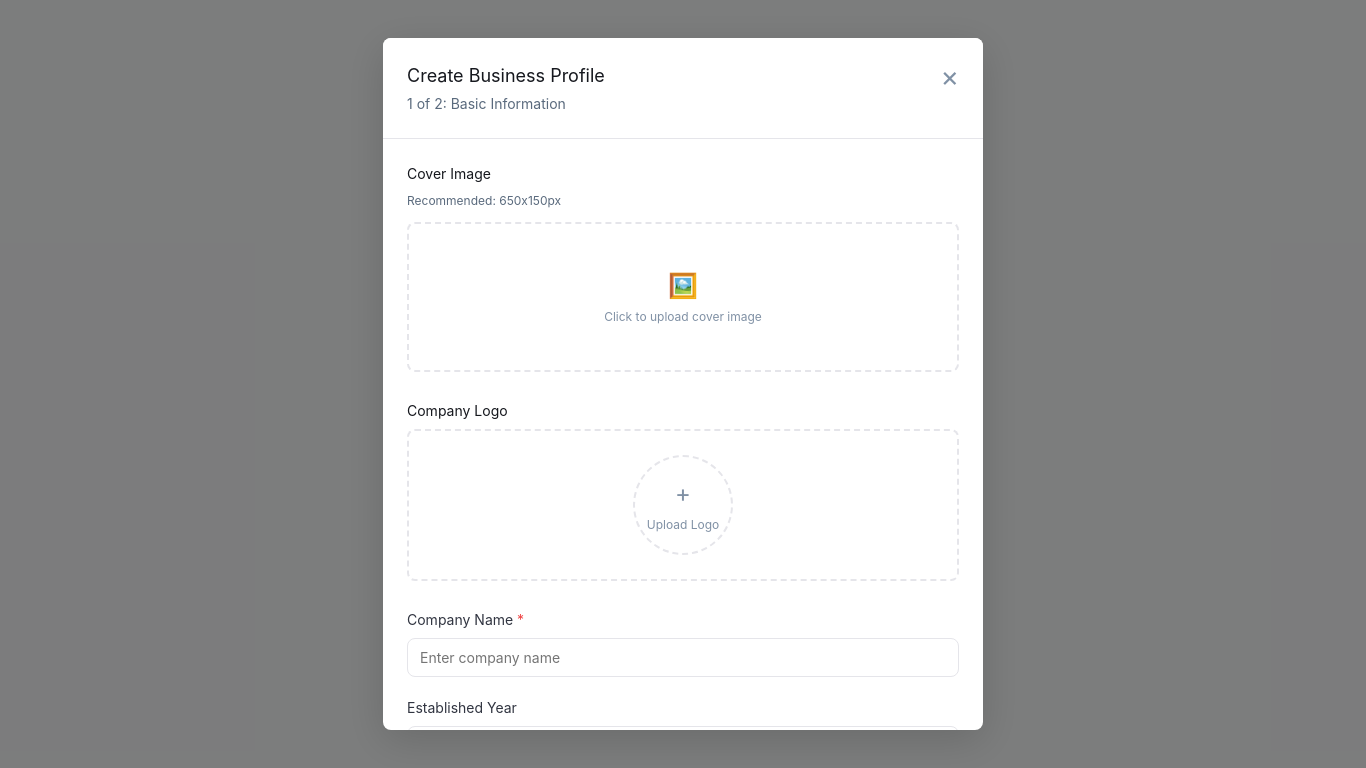
it: BusinessProfileModal › Step 2: Team Management › should remove team member when clicking remove button
Type "Test Company" into the field labelled "Company Name *" at (683, 658), box [407,638,959,677]
(page scrolled)
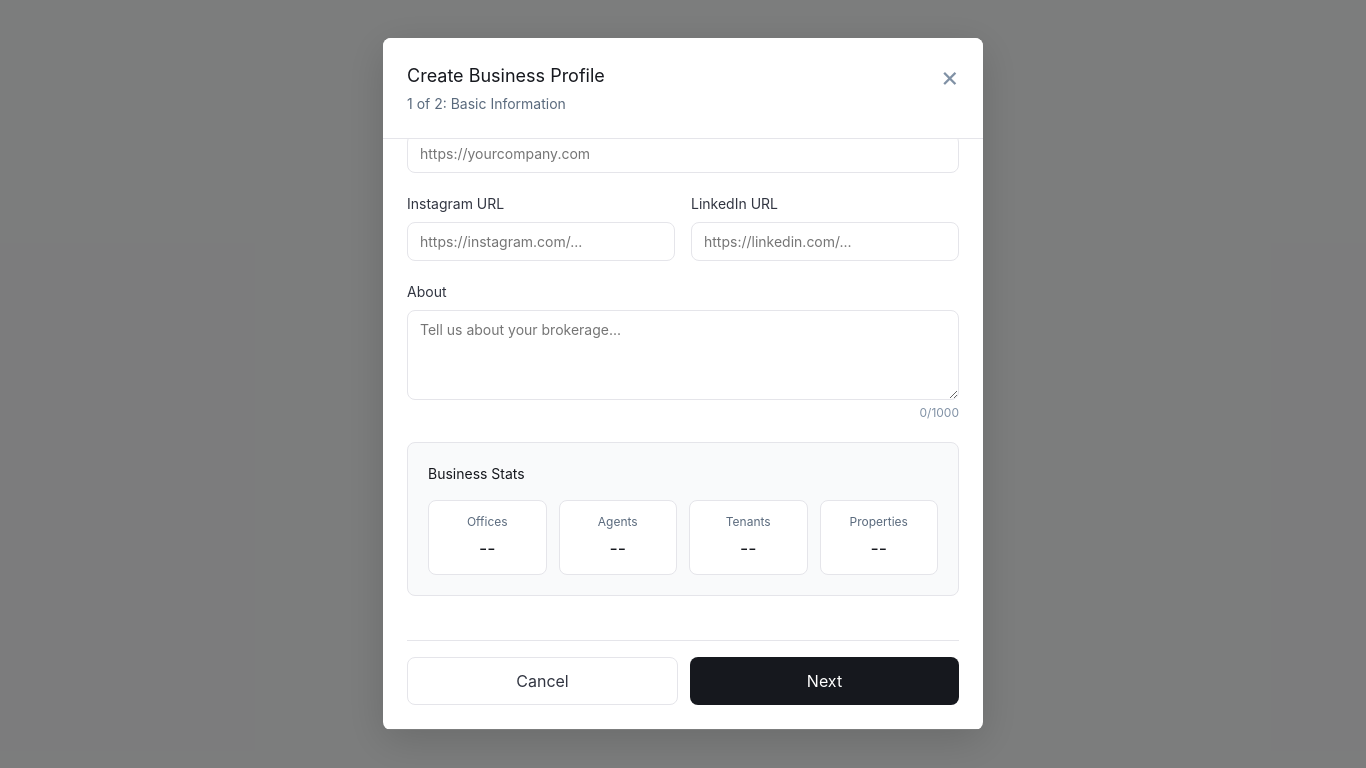
Click the button "Next" at (824, 681), box [690,657,959,705]
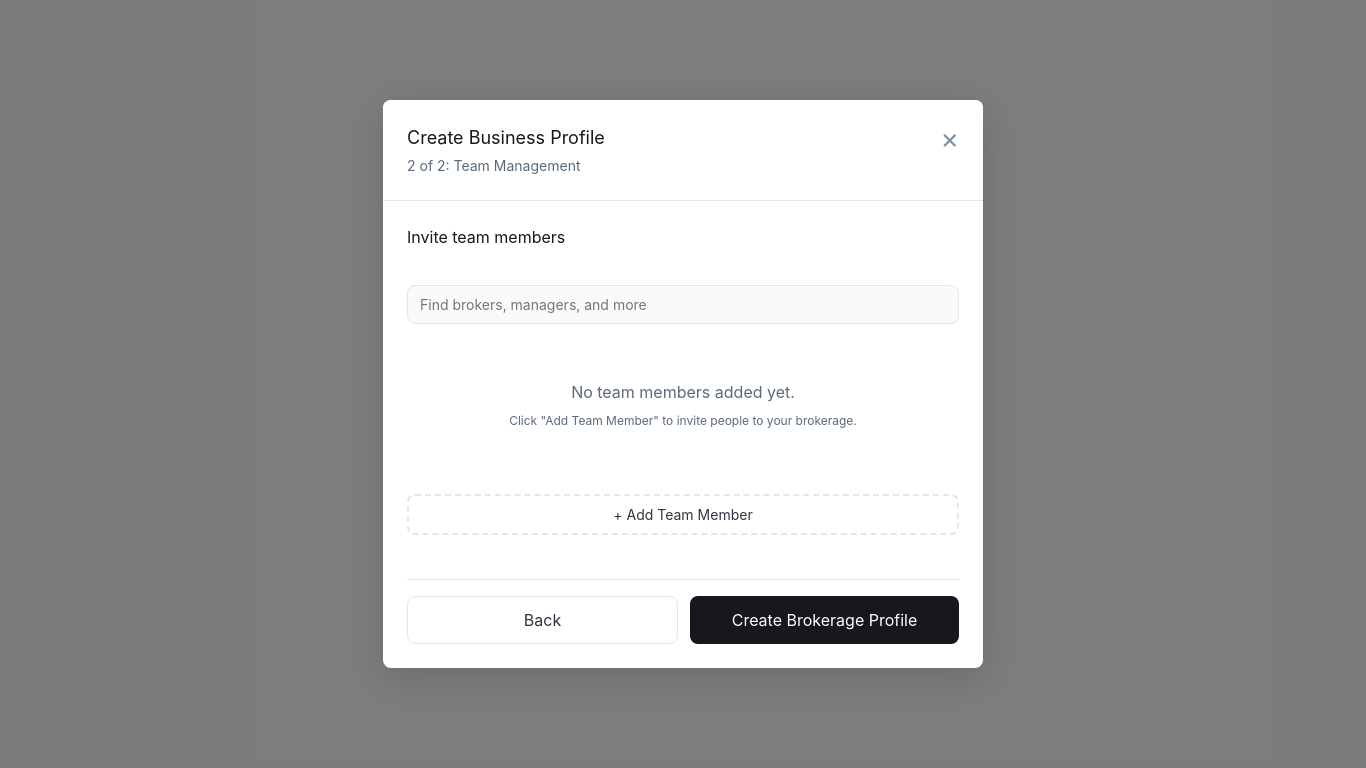
Now the text "2 of 2: Team Management" is shown, box [407,155,605,176]
Click the button "+ Add Team Member" at (683, 514), box [407,494,959,535]
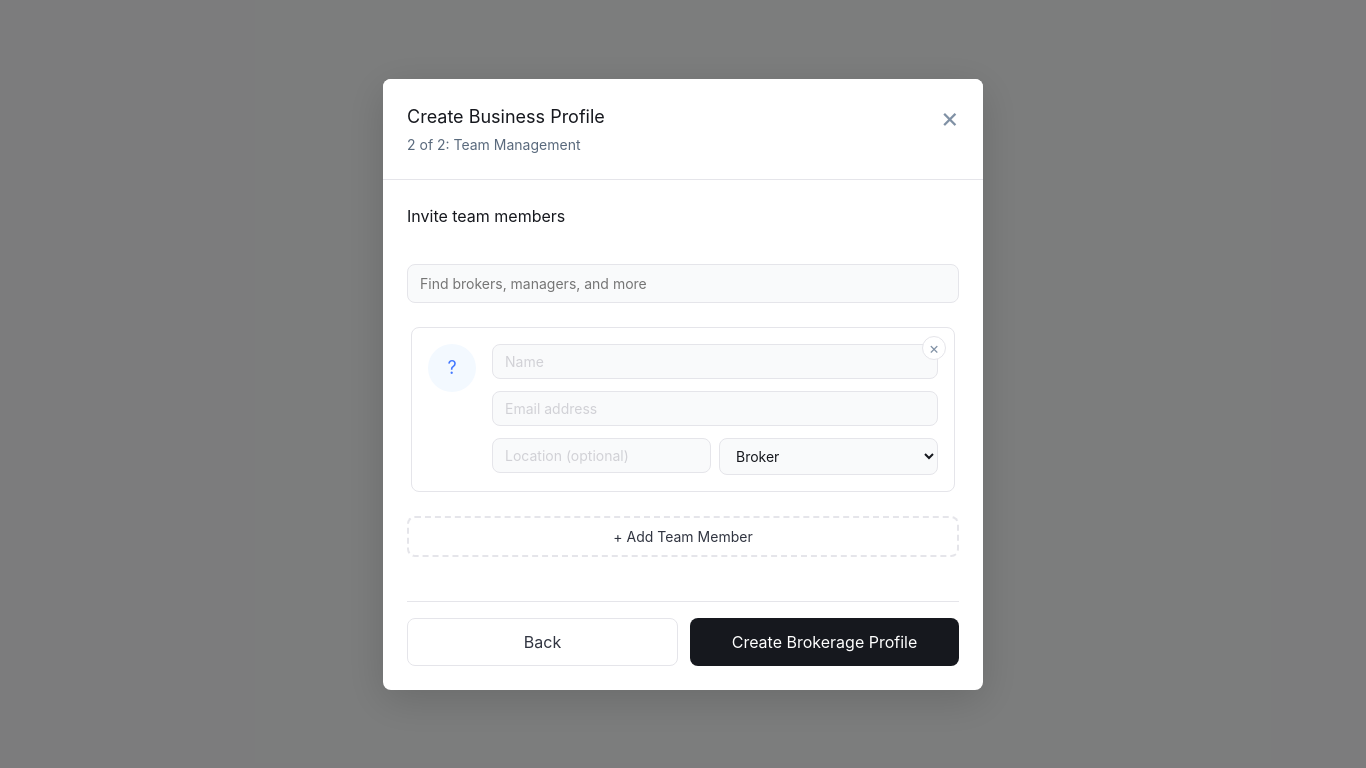
Now the field with placeholder "Name" is shown, box [492,344,938,378]
Click the button named "Remove team member" at (934, 348), box [922,336,946,360]
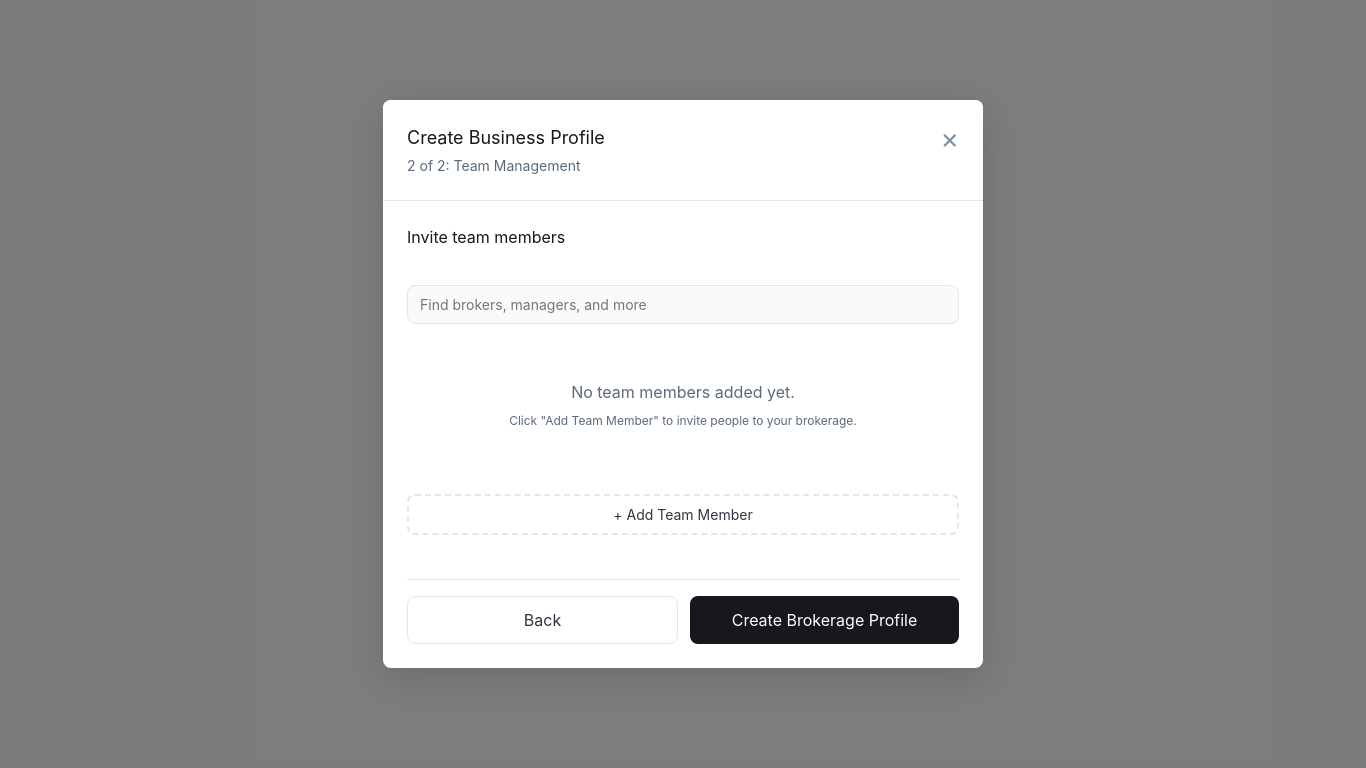
Now the field with placeholder "Name" is gone
